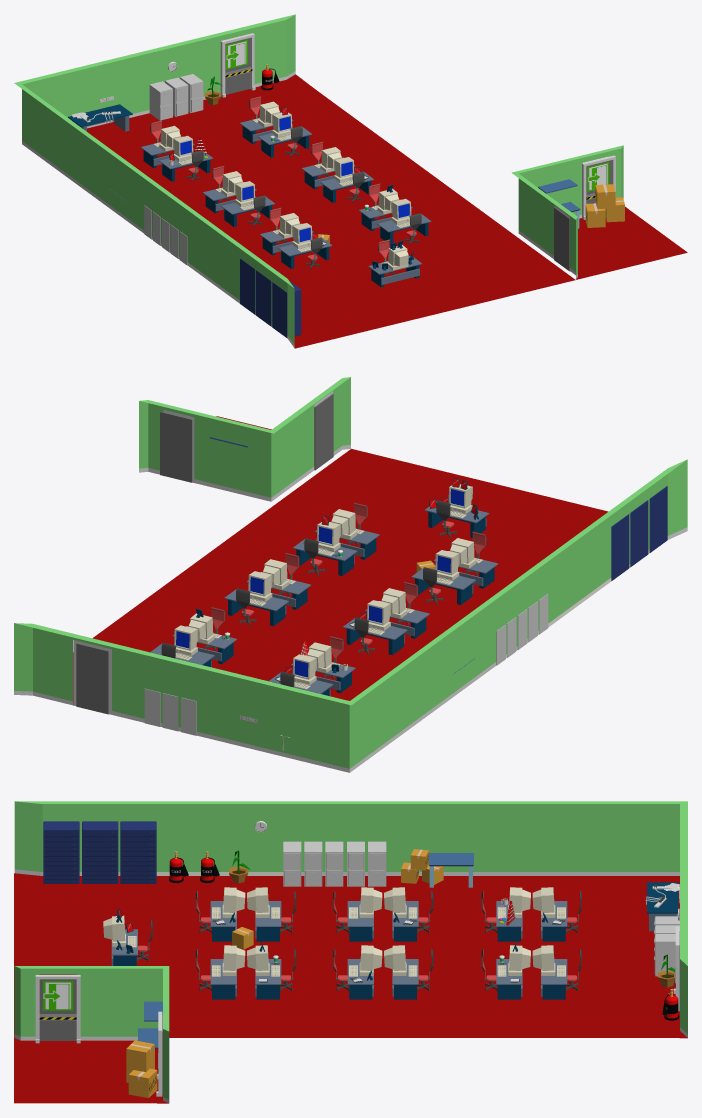
The model's file is Level - Intro1&2.fbx.
3 views of the same model, one above another, from view 1: azimuth 30°, elevation 25°; view 2: azimuth 150°, elevation 25°; view 3: azimuth 270°, elevation 25° (orthographic). The views are drawn at different scales.
Parts seen in each view (by area): view 1: LevelBase_2, LevelBase_1, Mesh_Door (×2), LevelChallenge_2, Mesh_Frame1; view 2: LevelBase_2, LevelBase_1, Mesh_Door (×2), Mesh_Frame1; view 3: LevelBase_2, LevelBase_1, Mesh_Door, LevelChallenge_2, Mesh_Frame, LevelChallenge_1c, LevelChallenge_1a.
Part boxes in pixels (left/top/right/bottom): LevelBase_2: left=14, top=14, right=575, bottom=348; LevelBase_1: left=511, top=145, right=687, bottom=279; Mesh_Door (×2): left=225, top=38, right=569, bottom=271; LevelChallenge_2: left=68, top=96, right=132, bottom=131; Mesh_Frame1: left=220, top=33, right=255, bottom=97; LevelBase_2: left=14, top=449, right=687, bottom=772; LevelBase_1: left=139, top=377, right=350, bottom=501; Mesh_Door (×2): left=76, top=394, right=333, bottom=714; Mesh_Frame1: left=73, top=640, right=111, bottom=714; LevelBase_2: left=14, top=801, right=687, bottom=1038; LevelBase_1: left=14, top=966, right=169, bottom=1103; Mesh_Door: left=39, top=979, right=76, bottom=1040; LevelChallenge_2: left=645, top=882, right=679, bottom=931; Mesh_Frame: left=35, top=975, right=80, bottom=1043; LevelChallenge_1c: left=126, top=1040, right=154, bottom=1071; LevelChallenge_1a: left=128, top=1068, right=157, bottom=1098.
Size of the model in its own units: 47.68 by 6.99 by 58.97.
Materials: 88 (10 with a texture image).
